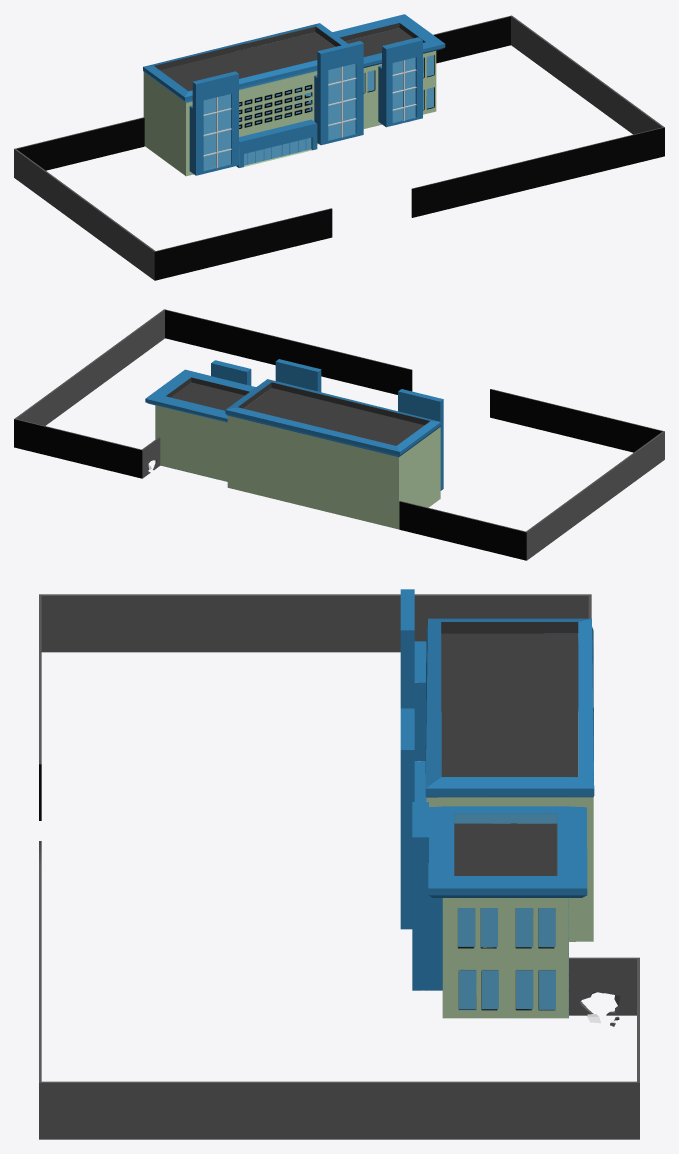
File: SCHOOL1.fbx
3 renders of one model, top to bottom at view 1: azimuth 30°, elevation 25°; view 2: azimuth 150°, elevation 25°; view 3: azimuth 270°, elevation 25°, orthographic. The views are drawn at different scales.
Parts seen in each view (by area): view 1: Cube.001, Cube, Cube.003; view 2: Cube, Cube.001, Cube.003; view 3: Cube.001, Cube, Cube.003.
Boxes of the visible parts, x1,y1,x2,y2 form: Cube.001: (14, 15, 664, 280); Cube: (143, 14, 445, 176); Cube.003: (189, 37, 422, 175); Cube: (145, 369, 440, 529); Cube.001: (14, 309, 664, 560); Cube.003: (211, 359, 443, 490); Cube.001: (39, 594, 639, 1139); Cube: (425, 618, 594, 1018); Cube.003: (400, 589, 442, 990).
Bounding box in the file's own units: 89695 × 16435 × 46612.
Materials: 5 (3 with a texture image).
